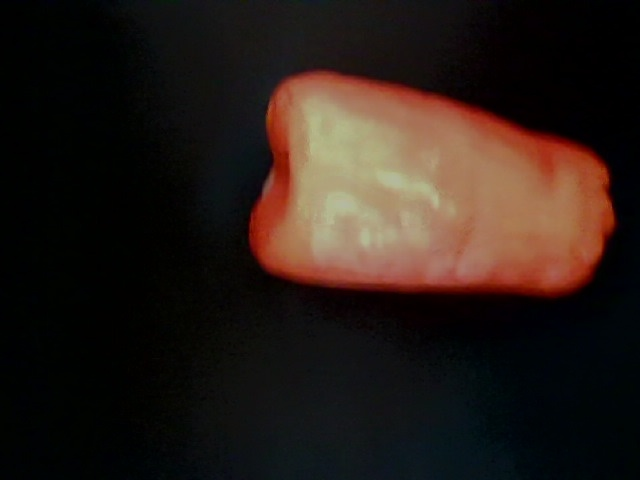KHSLJ: (115, 148, 455, 418)
